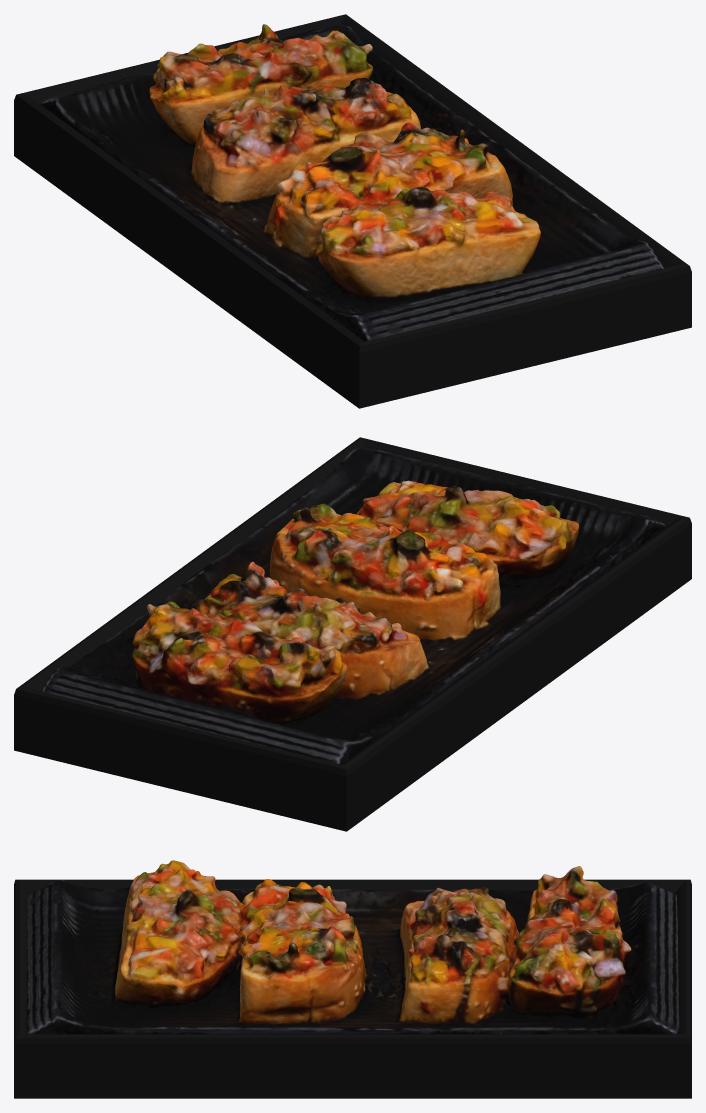
The model's file is compressed-Bruschetta.glb.
The picture shows the model from 3 angles, top to bottom: view 1: azimuth 30°, elevation 25°; view 2: azimuth 150°, elevation 25°; view 3: azimuth 270°, elevation 25°; orthographic projection.
Visible parts, largest first — view 1: Bruchetta.002; view 2: Bruchetta.002; view 3: Bruchetta.002.
Boxes of the visible parts, x1,y1,x2,y2 form: Bruchetta.002: (14,14,691,408); Bruchetta.002: (14,437,691,831); Bruchetta.002: (14,860,691,1098).
Bounding box in the file's own units: 0.9123 × 0.316 × 1.64.
2 materials, 1 textured.
